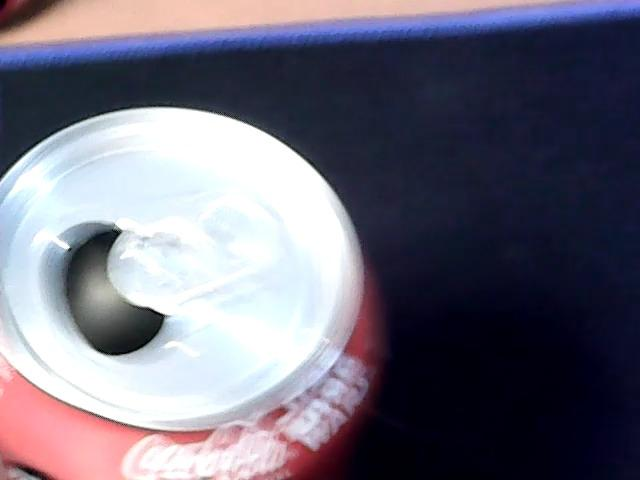coke: (0, 102, 383, 477)
